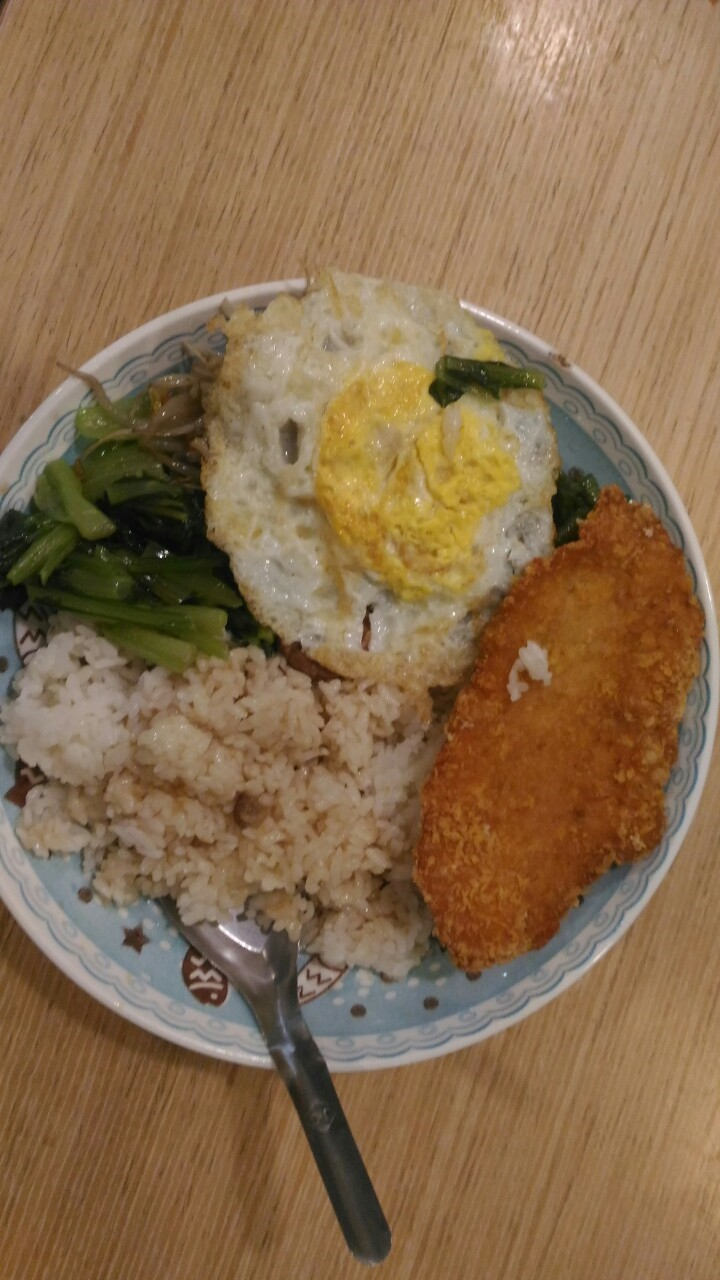fried_chicken: (419, 556, 675, 913)
fried_eggs: (219, 292, 556, 649)
rice: (81, 667, 411, 938)
